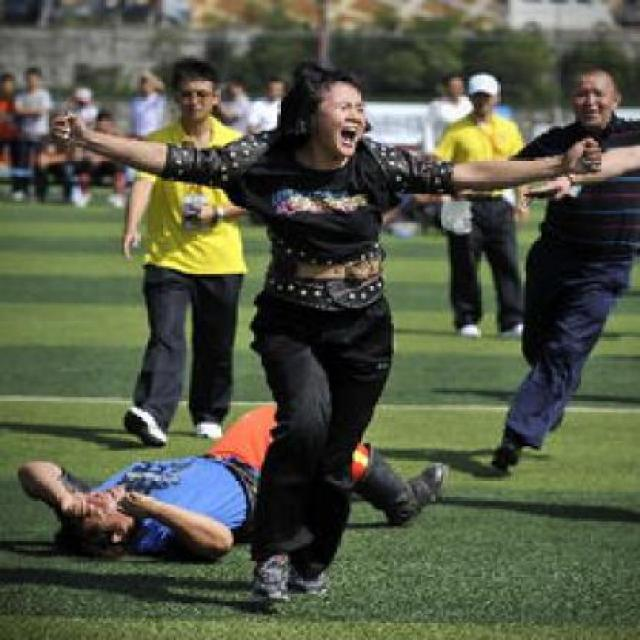fall: (16, 385, 464, 570)
